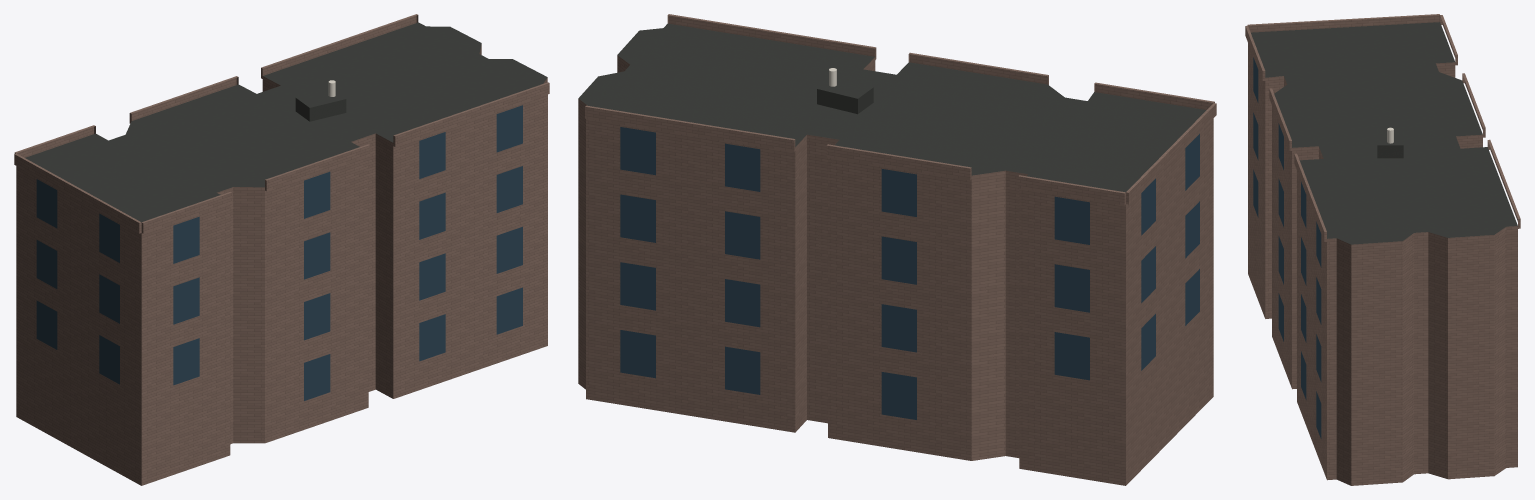
3 renders of one model, left to right at view 1: azimuth 30°, elevation 25°; view 2: azimuth 150°, elevation 25°; view 3: azimuth 270°, elevation 25°, orthographic. The views are drawn at different scales.
Visible parts, largest first — view 1: Footprint 0 / surface 2, Footprint 0 / surface 1, Inset glazing, Facade bay volumes; view 2: Footprint 0 / surface 2, Footprint 0 / surface 1, Inset glazing, Facade bay volumes; view 3: Footprint 0 / surface 2, Footprint 0 / surface 1, Facade bay volumes, Inset glazing, Inferred rooftop service enclosure / surface 3, Inferred rooftop service enclosure / surface 1.
Part boxes in pixels (x1,y1,x2,y2): Footprint 0 / surface 2: (16,44,547,485); Footprint 0 / surface 1: (25,22,547,222); Inset glazing: (36,105,522,400); Facade bay volumes: (14,14,549,233); Footprint 0 / surface 2: (578,55,1213,485); Footprint 0 / surface 1: (578,23,1206,192); Inset glazing: (620,127,1199,419); Facade bay volumes: (585,14,1216,205); Footprint 0 / surface 2: (1248,43,1517,485); Footprint 0 / surface 1: (1251,22,1517,244); Facade bay volumes: (1245,14,1520,241); Inset glazing: (1253,57,1321,438); Inferred rooftop service enclosure / surface 3: (1377,128,1403,145); Inferred rooftop service enclosure / surface 1: (1377,145,1403,158).
Size of the model in its own units: 23.93 by 13.34 by 12.44.
